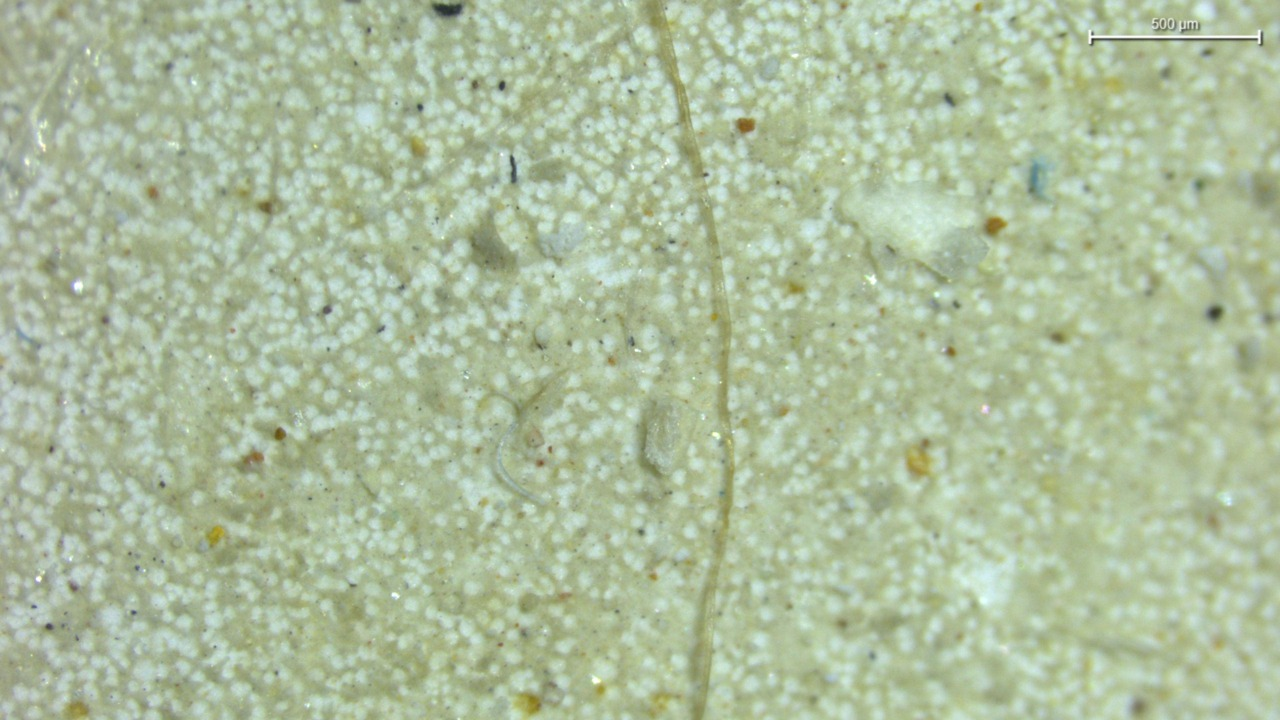microplastic_fragment: (835, 178, 988, 277), (640, 397, 702, 477), (539, 222, 583, 259), (533, 324, 553, 350)
